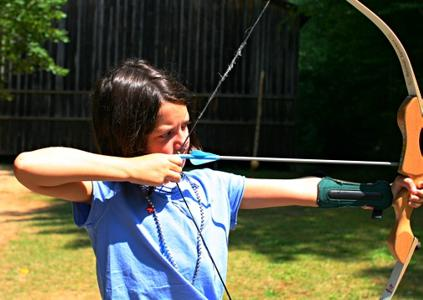person: (14, 56, 422, 300)
